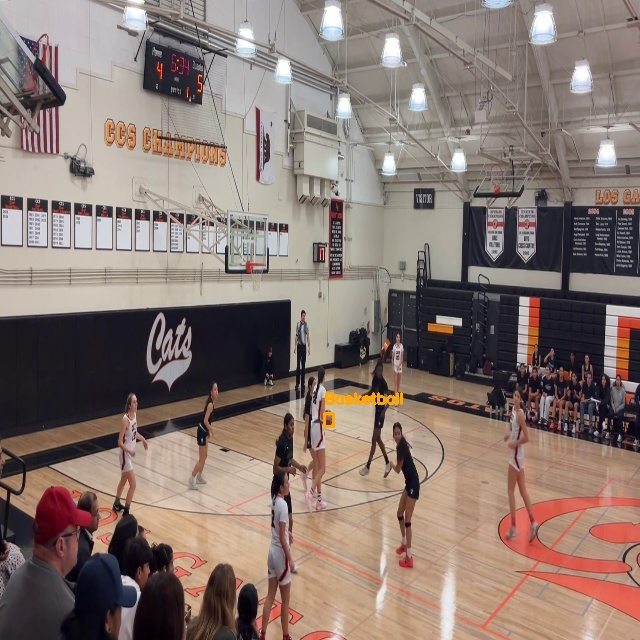Basketball: (324, 413, 333, 426)
